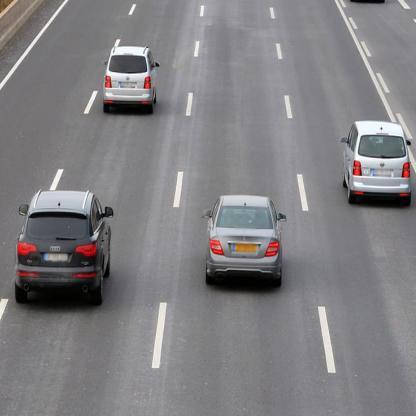vehicle: (13, 189, 114, 306), (204, 194, 286, 285), (340, 119, 414, 204), (103, 45, 160, 115)
